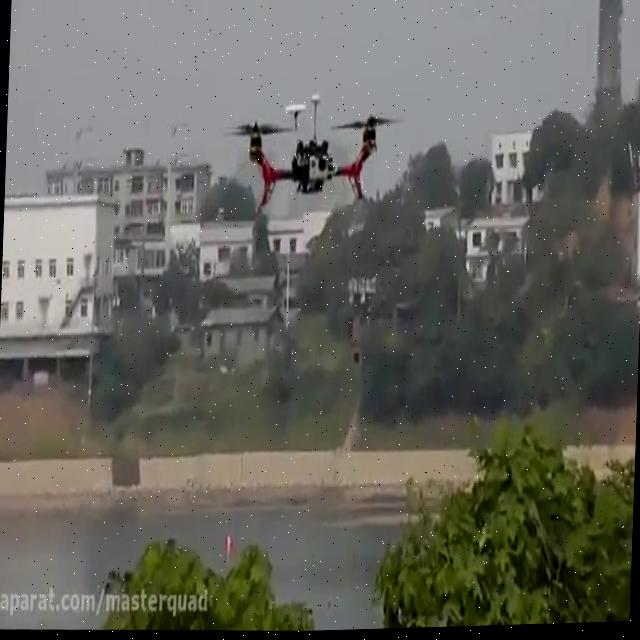drone: (215, 85, 408, 220)
